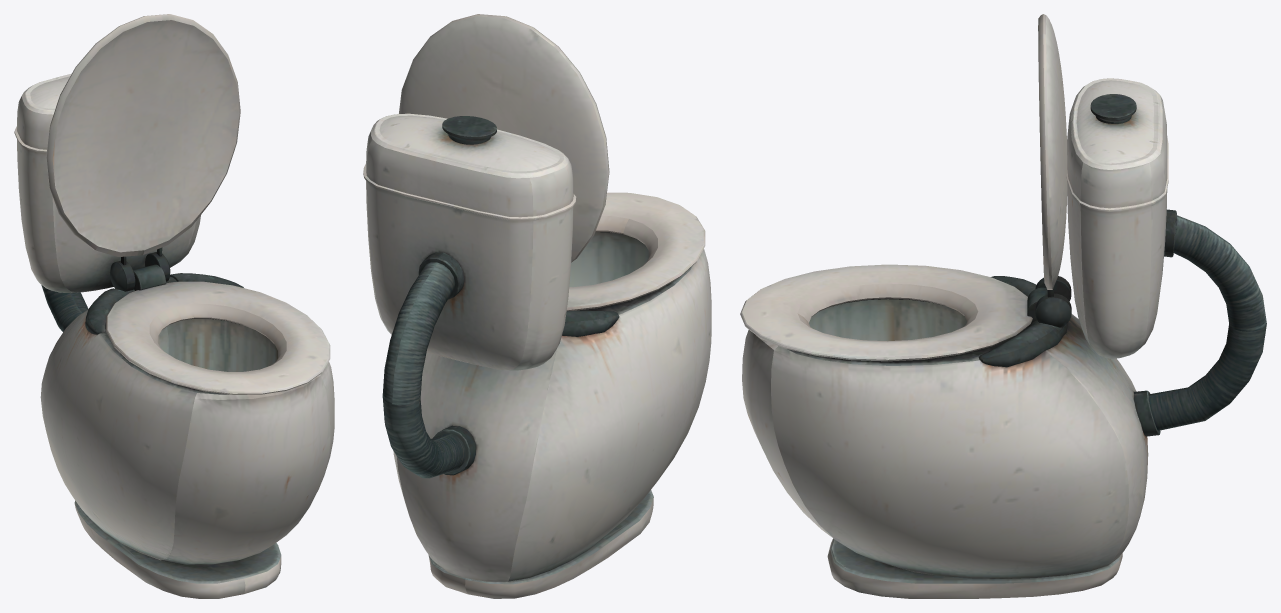
File: Toilet.obj
The picture shows the model from 3 angles, left to right: view 1: azimuth 30°, elevation 25°; view 2: azimuth 150°, elevation 25°; view 3: azimuth 270°, elevation 25°; orthographic projection. The views are drawn at different scales.
Parts seen in each view (by area): view 1: g0; view 2: g0; view 3: g0.
Boxes of the visible parts, bbox=[...] form: g0: bbox=[14, 14, 334, 598]; g0: bbox=[363, 14, 711, 598]; g0: bbox=[740, 14, 1266, 598].
Bounding box in the file's own units: 23.23 × 52.72 × 46.29.
1 material, 1 textured.
